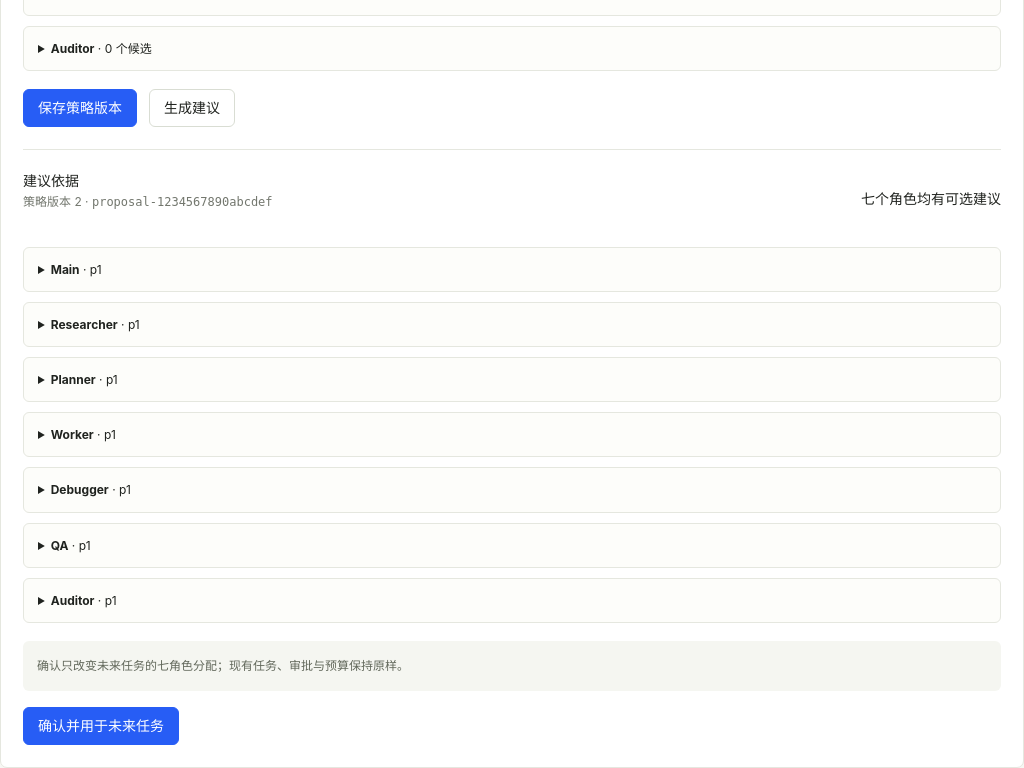
it: reconciles an unknown confirmation once with GETs and never replays the POST
The image size is (1024, 768).
(page scrolled)
Click the button "确认并用于未来任务". click: (101, 726)
box: [23,707,179,745]
(page scrolled)
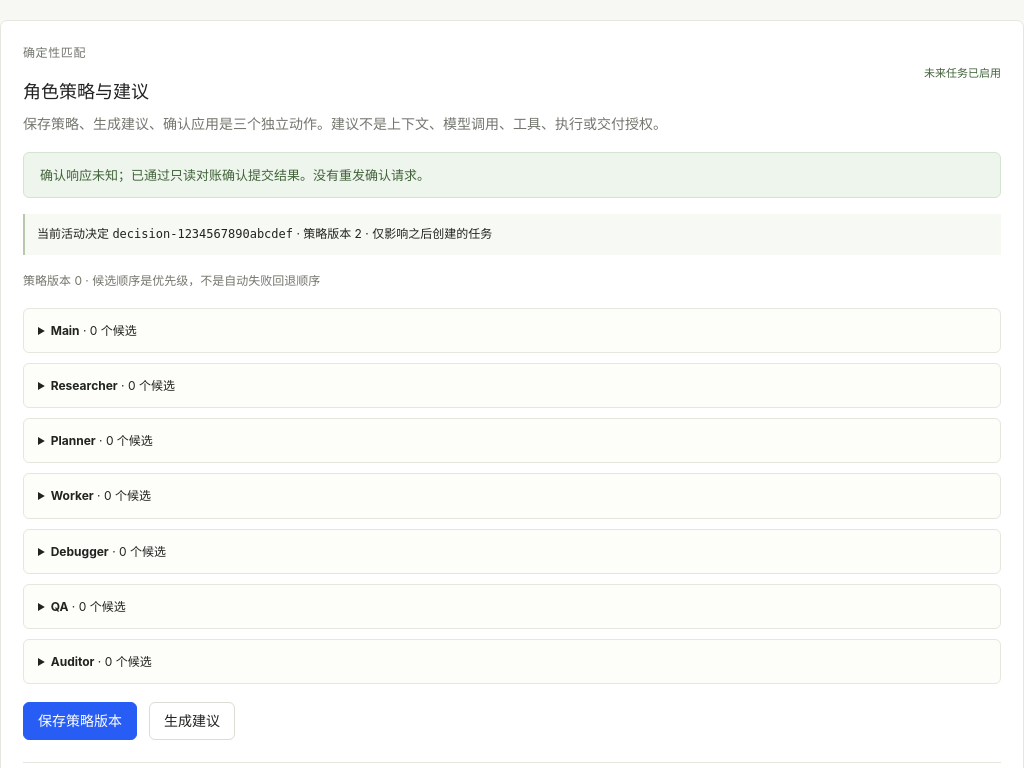
Check: the text "确认响应未知；已通过只读对账确认提交结果。没有重发确认请求。" is shown, box [23,152,1001,198]
